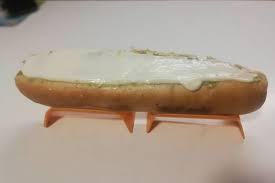Completos: (8, 44, 268, 127)
